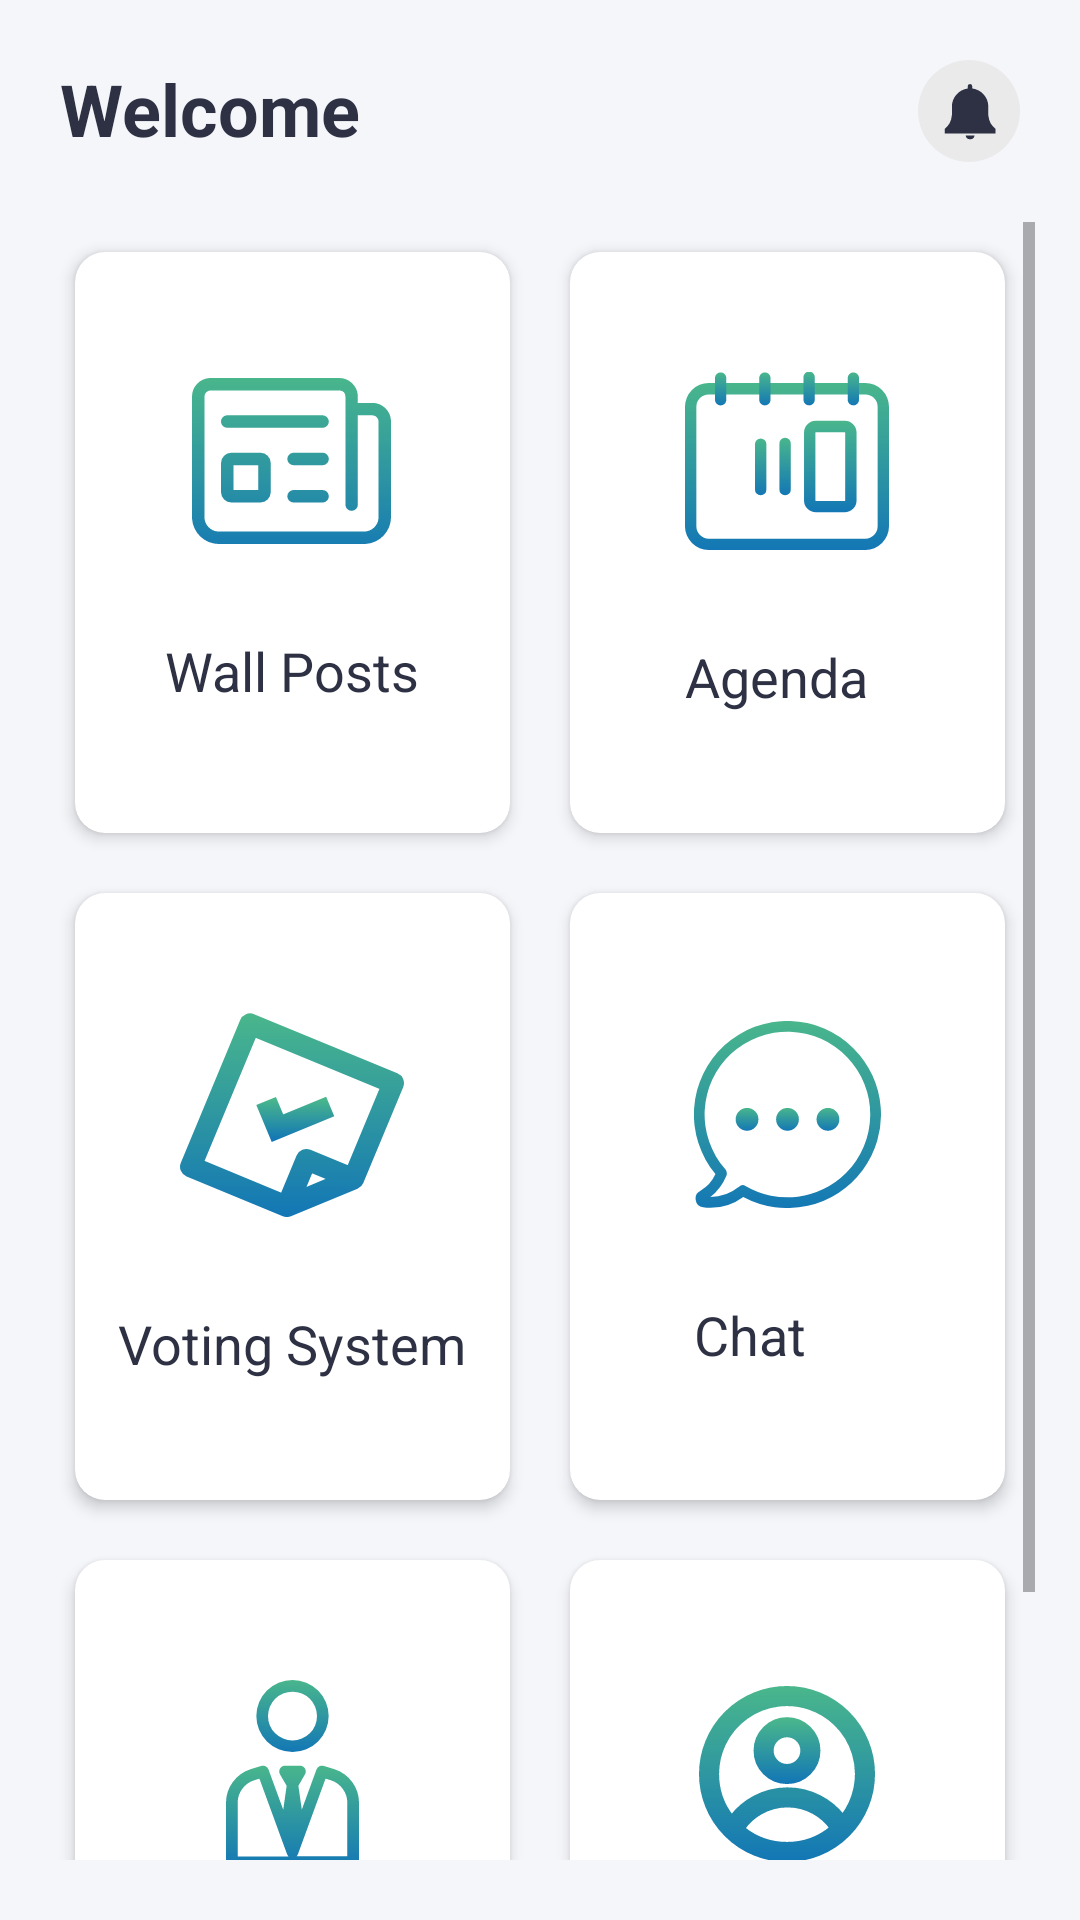

Where icons sit on this 1080*1920 app screen, as [left=x1, top=y1, right=x2, bottom=y2]:
notification: [left=944, top=84, right=996, bottom=140]
